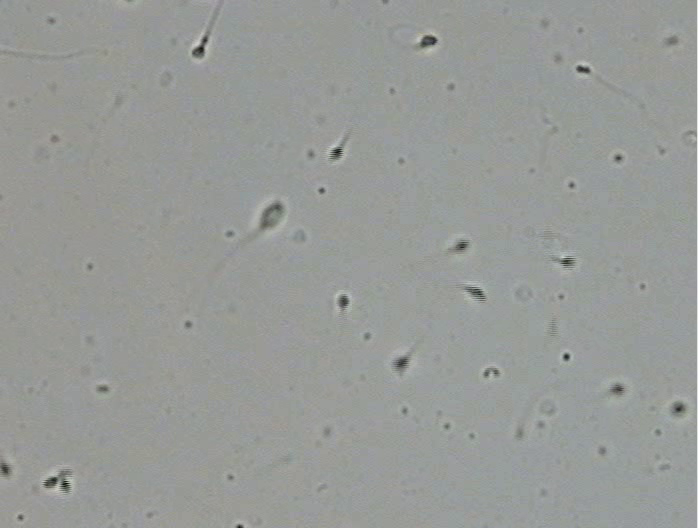S: (260, 202, 284, 230), (465, 285, 487, 303), (560, 255, 577, 269), (392, 357, 410, 370), (420, 35, 438, 47), (329, 146, 343, 161), (58, 478, 71, 494), (337, 293, 350, 309), (609, 383, 624, 395), (42, 477, 58, 488), (453, 241, 469, 252), (192, 45, 205, 58), (673, 402, 686, 414), (1, 462, 12, 476), (575, 64, 590, 74)
